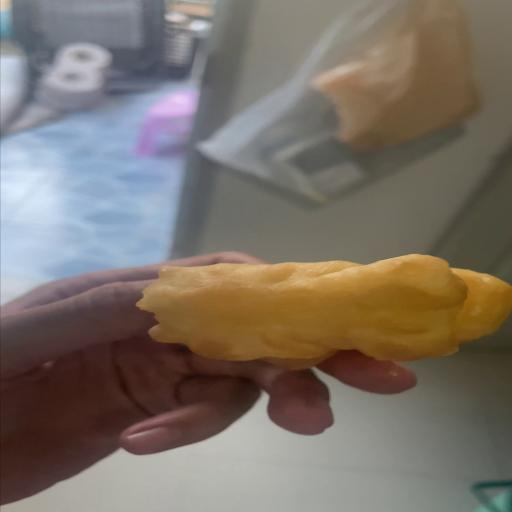street_golden_good: (138, 255, 511, 367)
